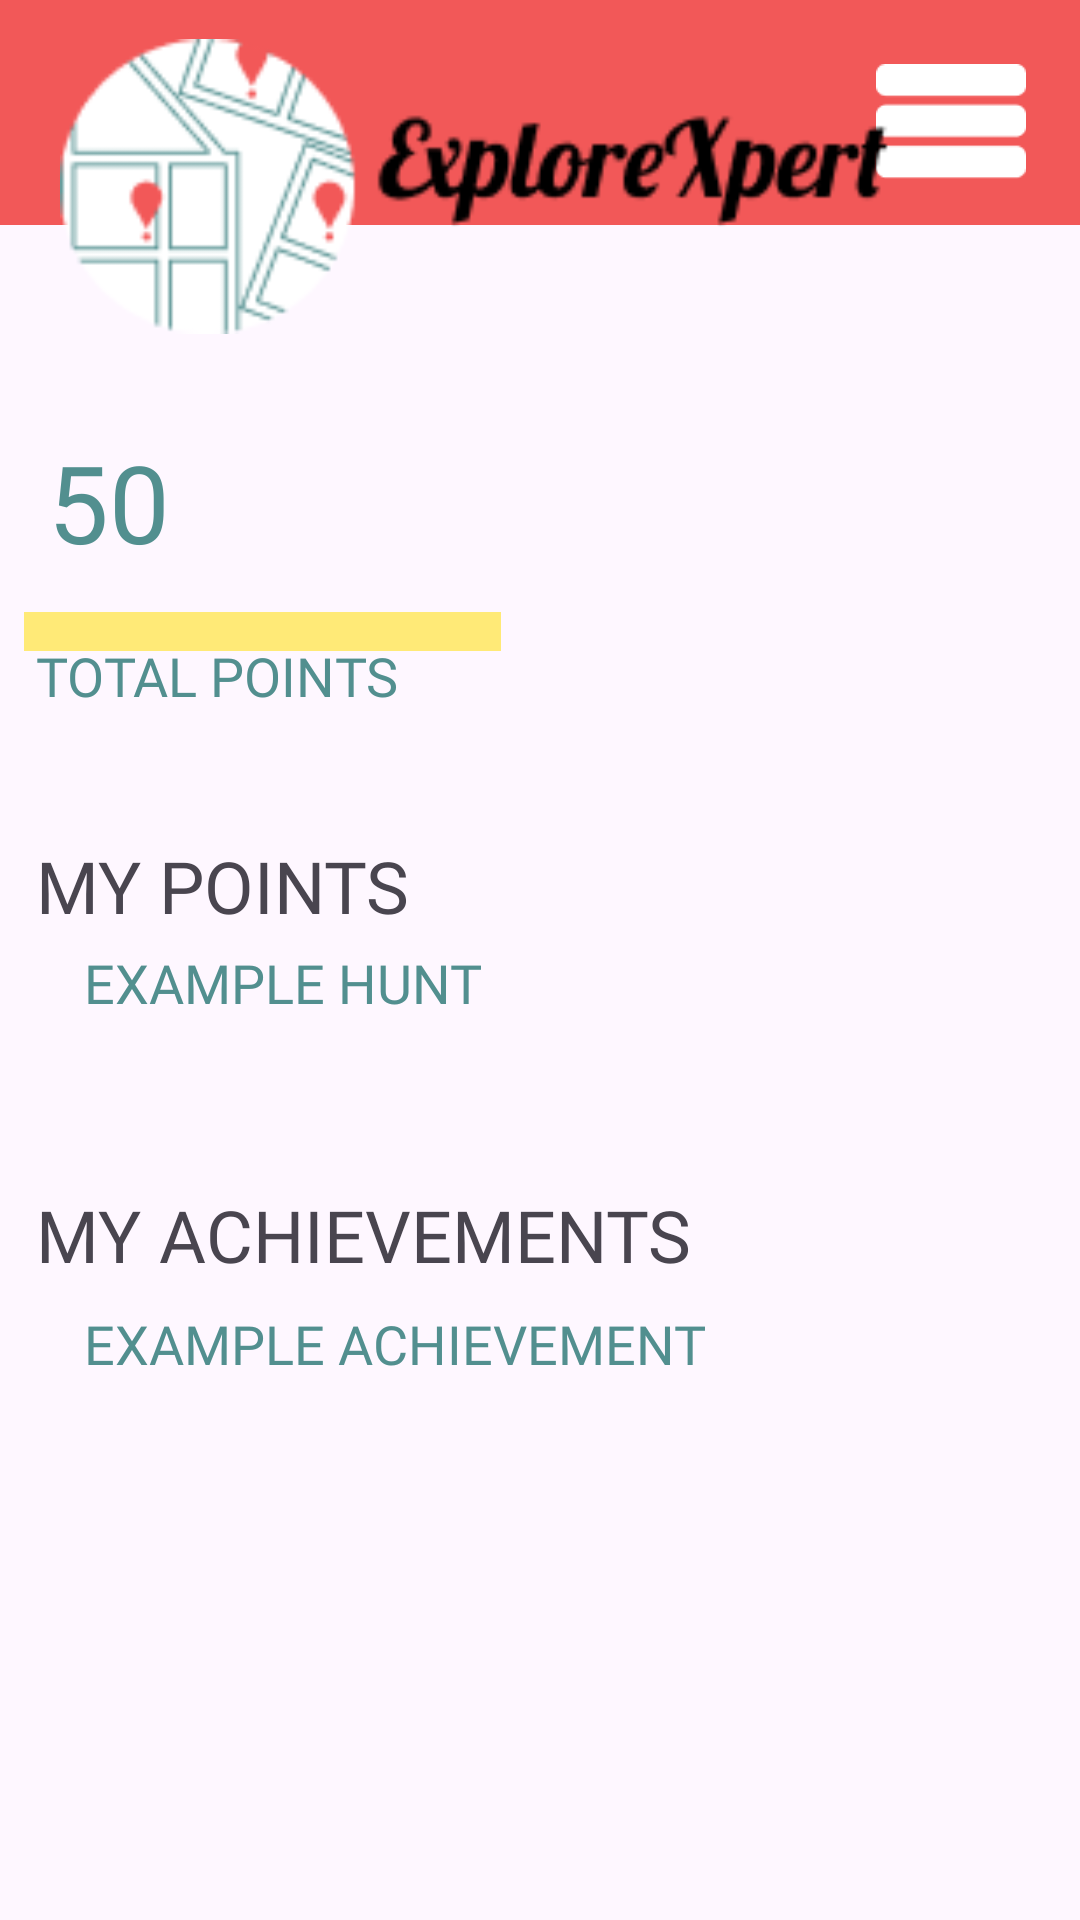

Icons on this 1080px×1920px Android screen, each with its box as (left=x1, top=y1, right=x2, bottom=y2):
Menu Button: (left=876, top=64, right=1026, bottom=196)
